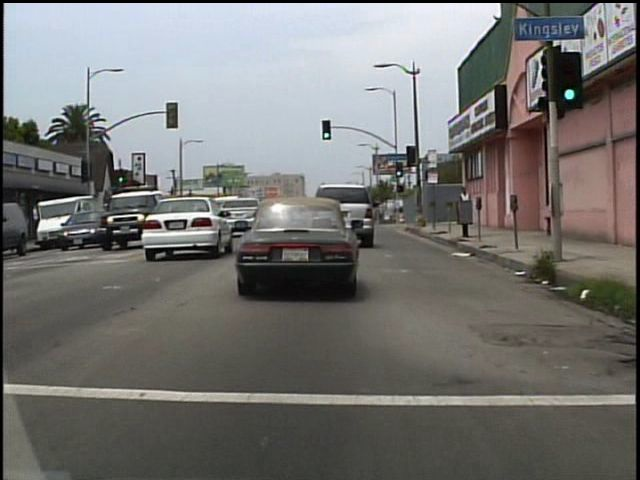person: (457, 184, 472, 229)
